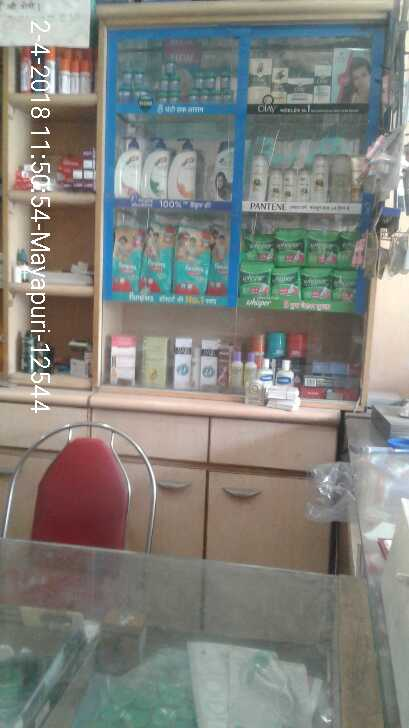vicks: (113, 51, 236, 102)
